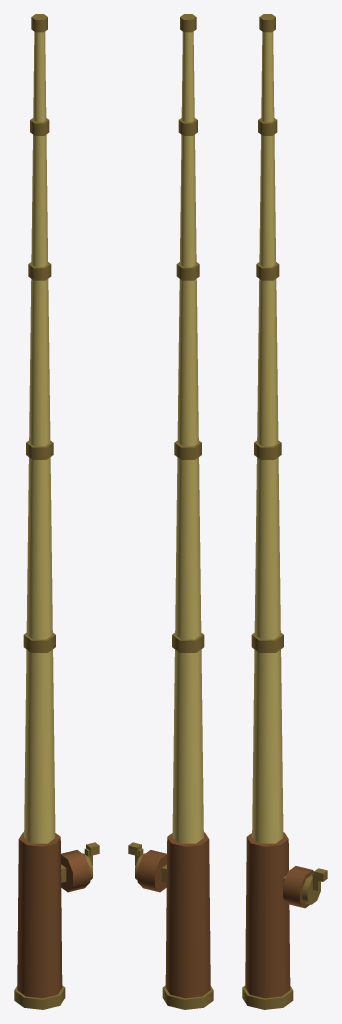
The model's file is Rod_Bamboo.fbx.
The picture shows the model from 3 angles, left to right: view 1: azimuth 30°, elevation 25°; view 2: azimuth 150°, elevation 25°; view 3: azimuth 330°, elevation 25°; orthographic projection.
Visible parts, largest first — view 1: Rod_Bamboo; view 2: Rod_Bamboo; view 3: Rod_Bamboo.
Part boxes in pixels (x1=…): Rod_Bamboo: x1=14, y1=14, x2=99, y2=1009; Rod_Bamboo: x1=128, y1=14, x2=213, y2=1009; Rod_Bamboo: x1=242, y1=14, x2=327, y2=1009.
Bounding box in the file's own units: 0.1194 × 1.43 × 0.0628.
